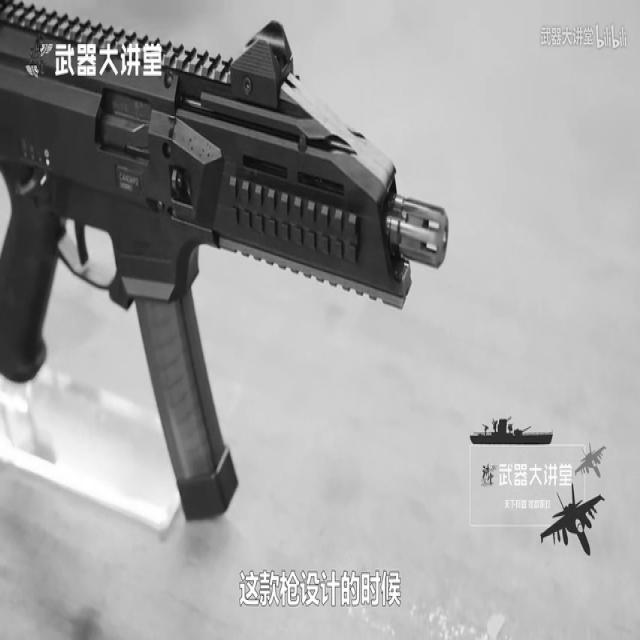Rifle: (0, 0, 483, 553)
